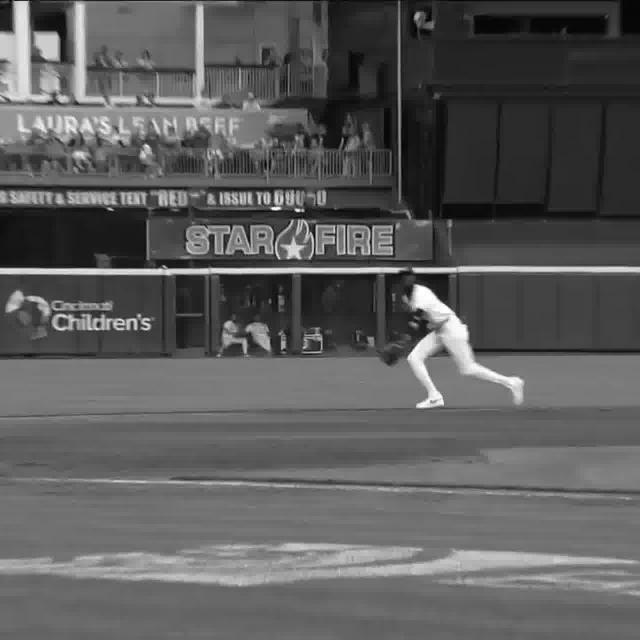baseball_glove: (382, 343, 410, 365)
shoe: (408, 396, 450, 416), (506, 372, 528, 405)
